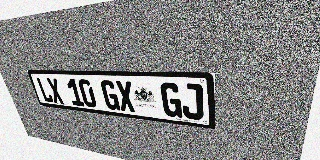0: (77, 79, 97, 108)
1: (65, 79, 85, 106)
G: (160, 82, 182, 118), (100, 80, 121, 111)
J: (180, 83, 204, 121)
L: (36, 77, 54, 103)
X: (115, 81, 136, 113), (46, 78, 65, 104)
